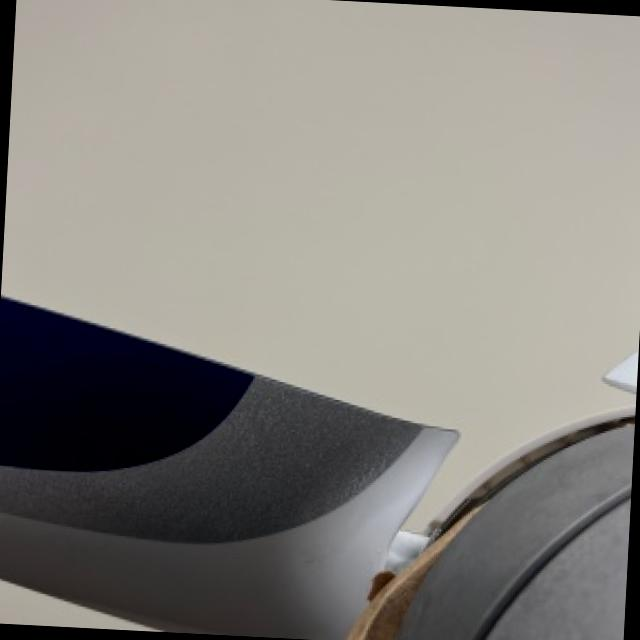healthy: (346, 411, 634, 640)
